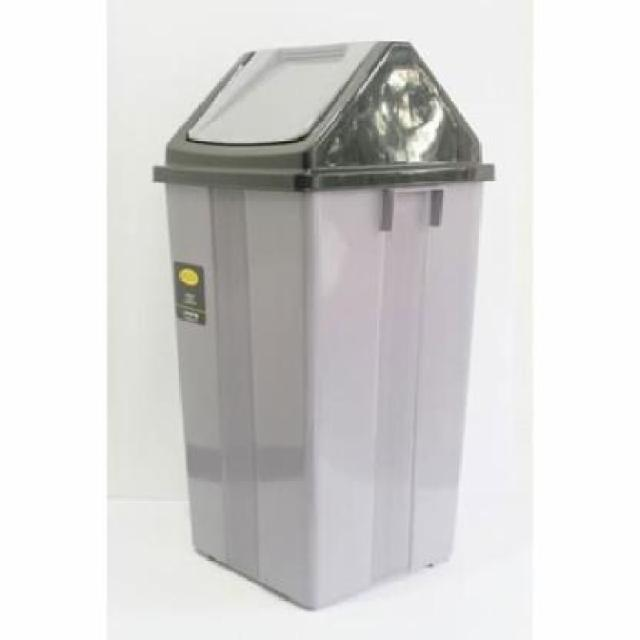garbage container: (139, 28, 503, 620)
